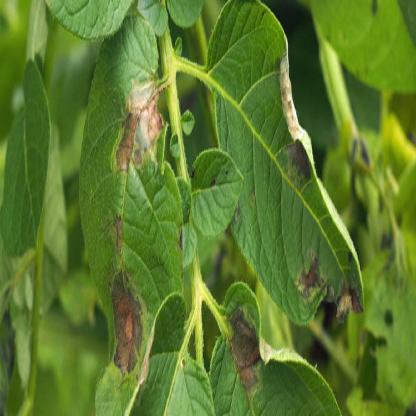Potato leaf late blight: (206, 2, 372, 335), (74, 17, 191, 415), (207, 282, 349, 415)
